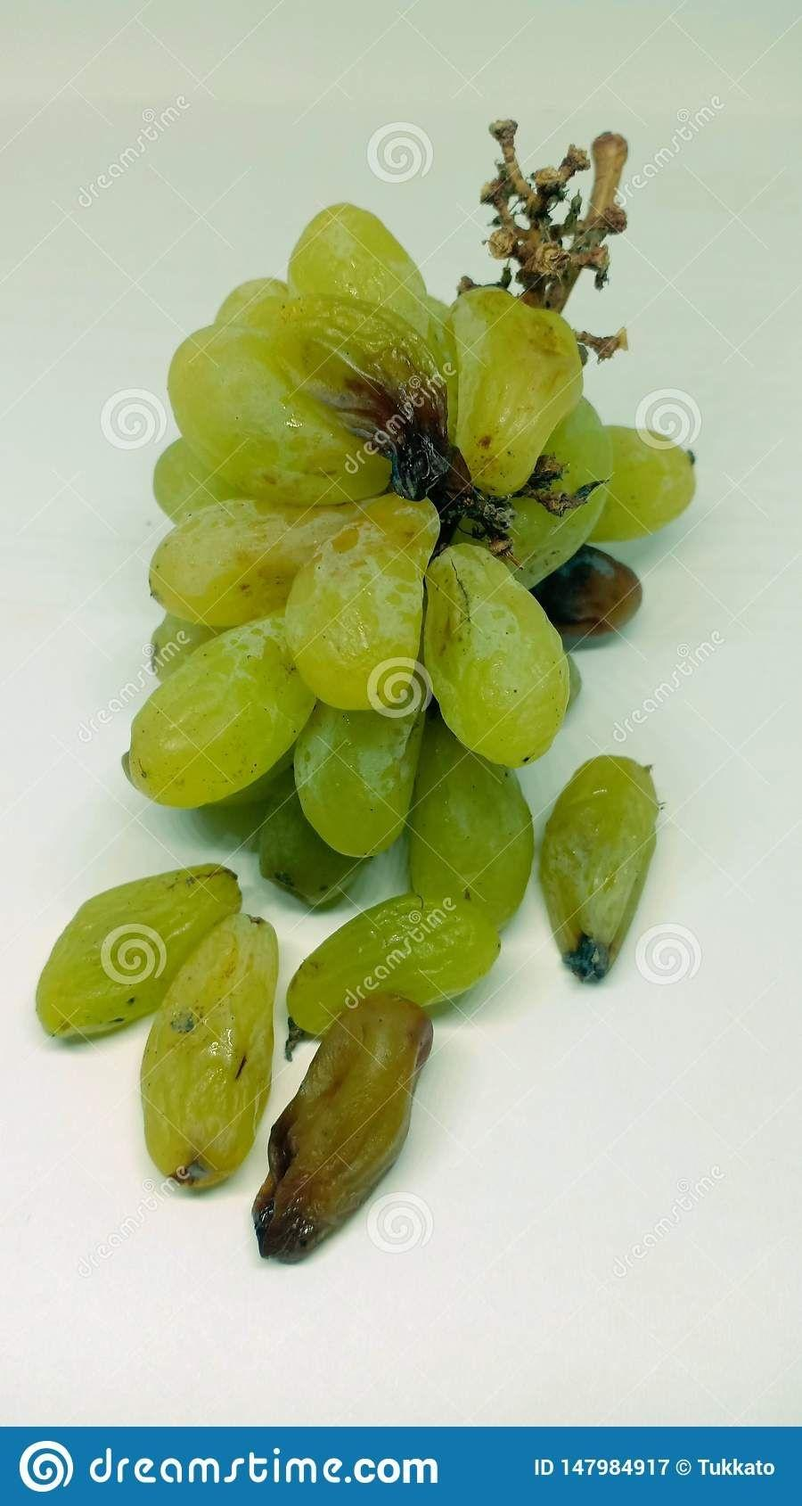Grape Rotten: (36, 128, 696, 1261), (250, 990, 434, 1264)
